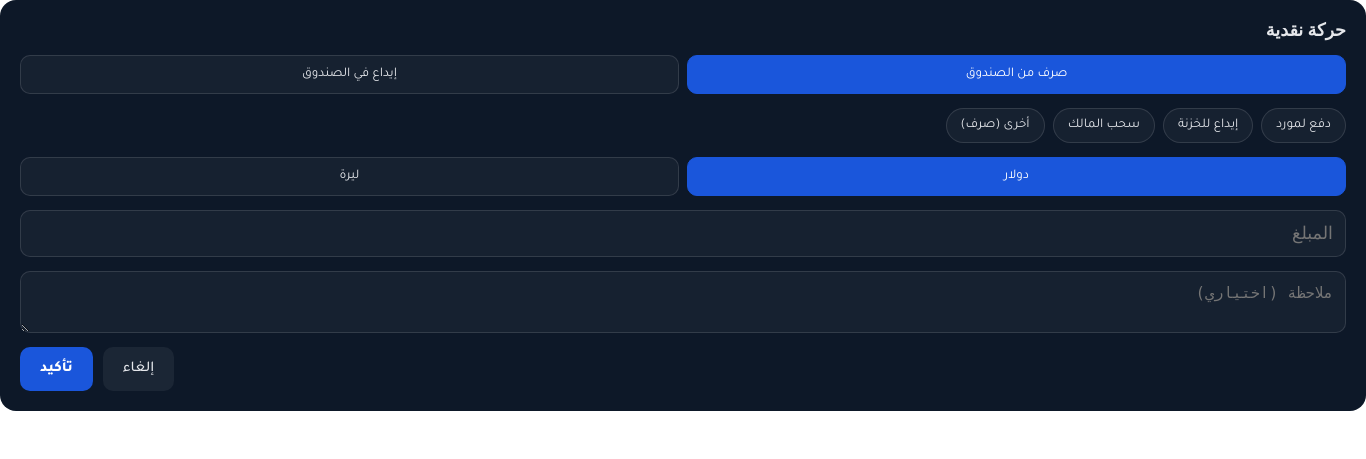
RecordCashMovementSheet › shows an inline error instead of silently doing nothing on a negative amount
The width and height of the screenshot is (1366, 459).
Click the button with test id "cat-drop_to_safe".
click(1208, 126)  # box [1163,108,1253,143]
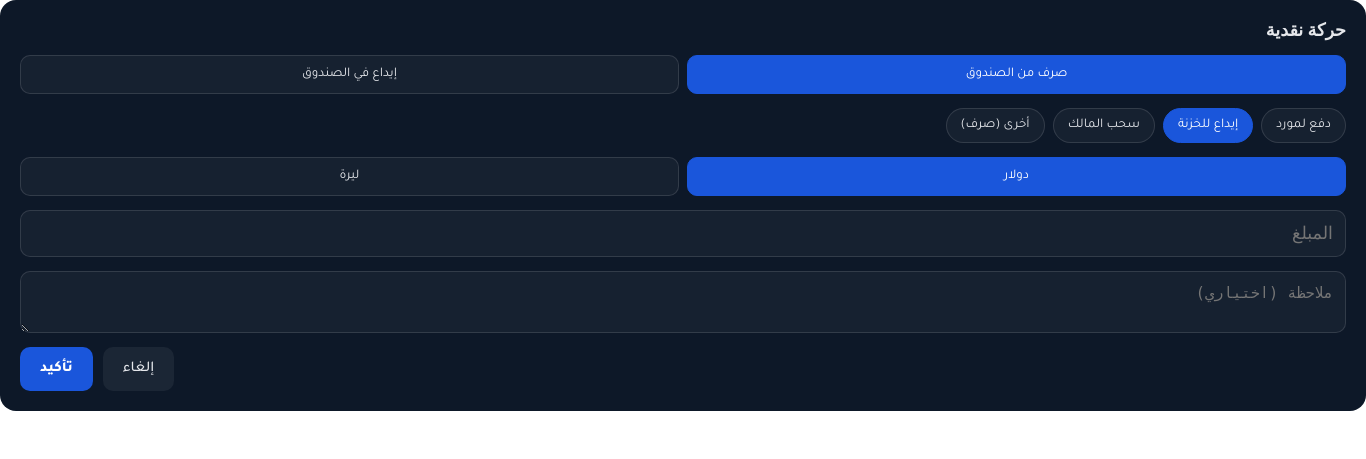
Type "-50" into the number field with test id "amount".
click(683, 234); type("-50")  # box [20,210,1346,257]
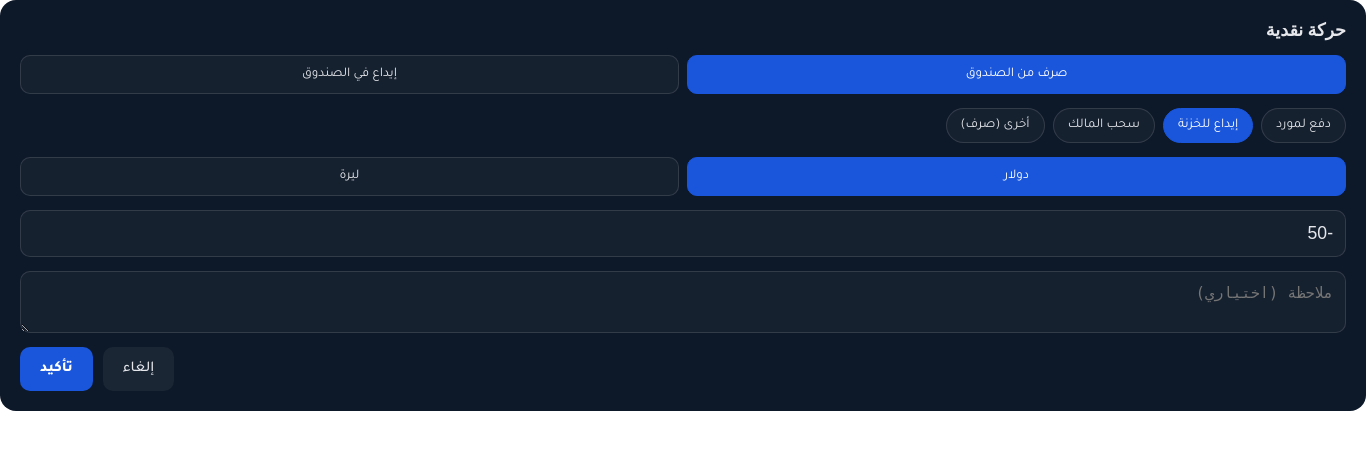
Click the button with test id "confirm".
click(56, 369)  # box [20,347,93,391]
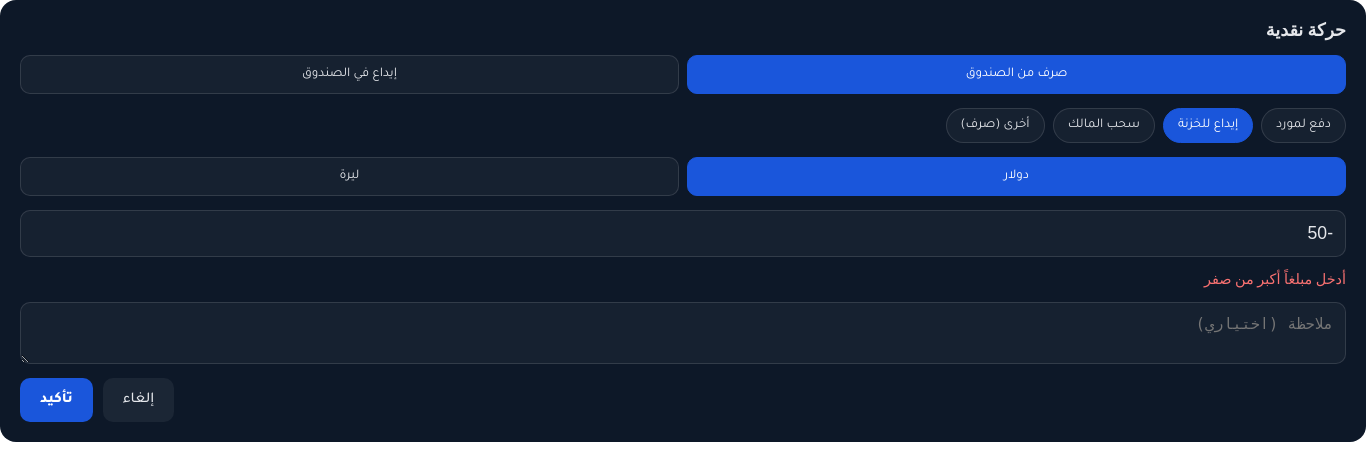
Now the text with test id "confirm-error" reads "أدخل مبلغاً أكبر من صفر", box [1204,271,1346,287]
